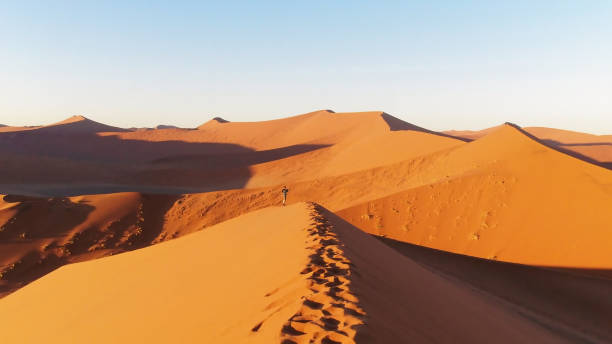human_foot_print: (292, 198, 359, 343)
